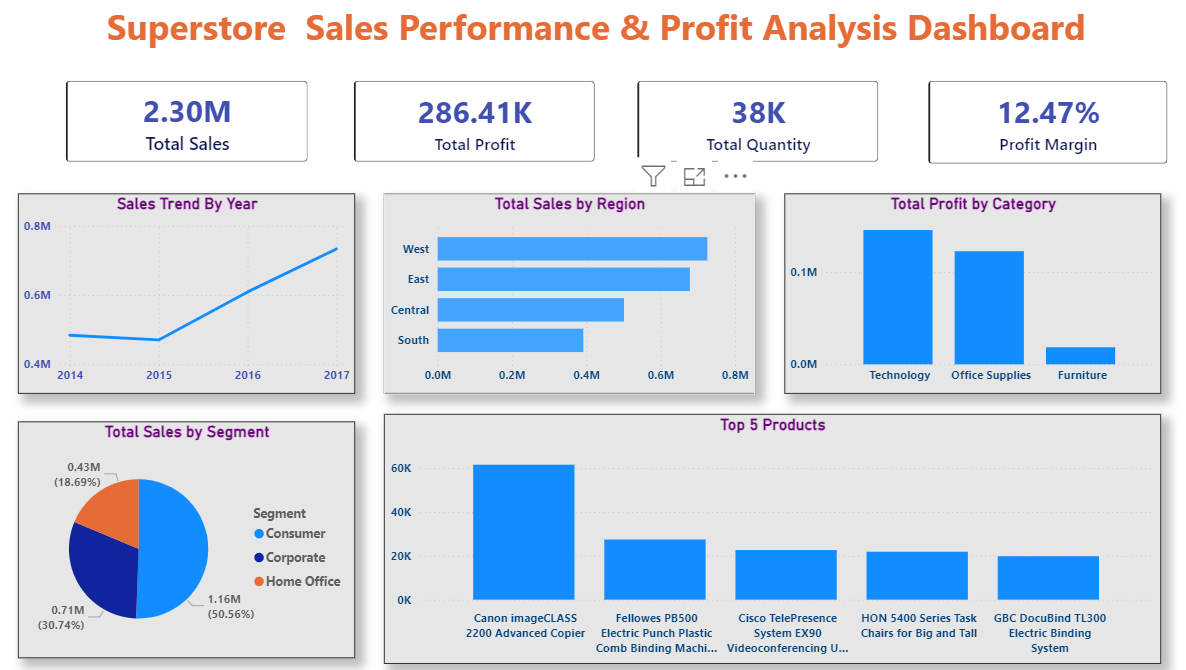

The dashboard page shown, as its layout file describes it:
{"tool":"powerbi","page":{"name":"Page 1","canvas":[1280,720],"ordinal":0},"visuals":[{"type":"shape","box":[0,0,1279.5,35.7],"z":0},{"type":"textbox","box":[0,0,1279.5,71.3],"z":1000},{"type":"cardVisual","fields":{"Data":["Sum(Sample - Superstore.Sales)"]},"box":[58.9,71.3,291.6,121],"z":2000},{"type":"cardVisual","fields":{"Data":["Sum(Sample - Superstore.Profit)"]},"box":[364.5,71.3,290,121],"z":3000},{"type":"cardVisual","fields":{"Data":["Sum(Sample - Superstore.Quantity)"]},"box":[665.3,71.3,290,121],"z":4000},{"type":"cardVisual","fields":{"Data":["Sample - Superstore.Profit_Margin"]},"box":[975.5,71.3,288.5,122.5],"z":5000},{"type":"lineChart","title":"Sales Trend By Year","fields":{"Category":["Sample - Superstore.Year"],"Y":["Sum(Sample - Superstore.Sales)"]},"box":[24.8,209.4,358.3,212.5],"z":6000},{"type":"clusteredBarChart","title":"Total Sales by Region","fields":{"Category":["Sample - Superstore.Region"],"Y":["Sum(Sample - Superstore.Sales)"]},"box":[414.1,209.4,393.9,212.5],"z":7000},{"type":"clusteredColumnChart","title":"Total Profit by Category","fields":{"Category":["Sample - Superstore.Category"],"Y":["Sum(Sample - Superstore.Profit)"]},"box":[839,209.4,400.1,212.5],"z":8000},{"type":"pieChart","title":"Total Sales by Segment","fields":{"Category":["Sample - Superstore.Segment"],"Y":["Sum(Sample - Superstore.Sales)"]},"box":[24.8,451.3,358.3,251.2],"z":9000},{"type":"clusteredColumnChart","title":"Top 5 Products","fields":{"Category":["Sample - Superstore.Product_Name"],"Y":["Sum(Sample - Superstore.Sales)"]},"box":[414.1,443.6,825.1,265.2],"z":10000}]}

Visuals, with their boxes in screenshot pixels (x1, y1, x2, y2), scaled from the page's 1280x720 canvas onto the 1186x670 screenshot:
shape: pyautogui.locateOnScreen(0, 0, 1185, 33)
textbox: pyautogui.locateOnScreen(0, 0, 1185, 66)
cardVisual - Sum(Sample - Superstore.Sales): pyautogui.locateOnScreen(55, 66, 325, 179)
cardVisual - Sum(Sample - Superstore.Profit): pyautogui.locateOnScreen(338, 66, 606, 179)
cardVisual - Sum(Sample - Superstore.Quantity): pyautogui.locateOnScreen(616, 66, 885, 179)
cardVisual - Sample - Superstore.Profit_Margin: pyautogui.locateOnScreen(904, 66, 1171, 180)
"Sales Trend By Year" lineChart: pyautogui.locateOnScreen(23, 195, 355, 393)
"Total Sales by Region" clusteredBarChart: pyautogui.locateOnScreen(384, 195, 749, 393)
"Total Profit by Category" clusteredColumnChart: pyautogui.locateOnScreen(777, 195, 1148, 393)
"Total Sales by Segment" pieChart: pyautogui.locateOnScreen(23, 420, 355, 654)
"Top 5 Products" clusteredColumnChart: pyautogui.locateOnScreen(384, 413, 1148, 660)
